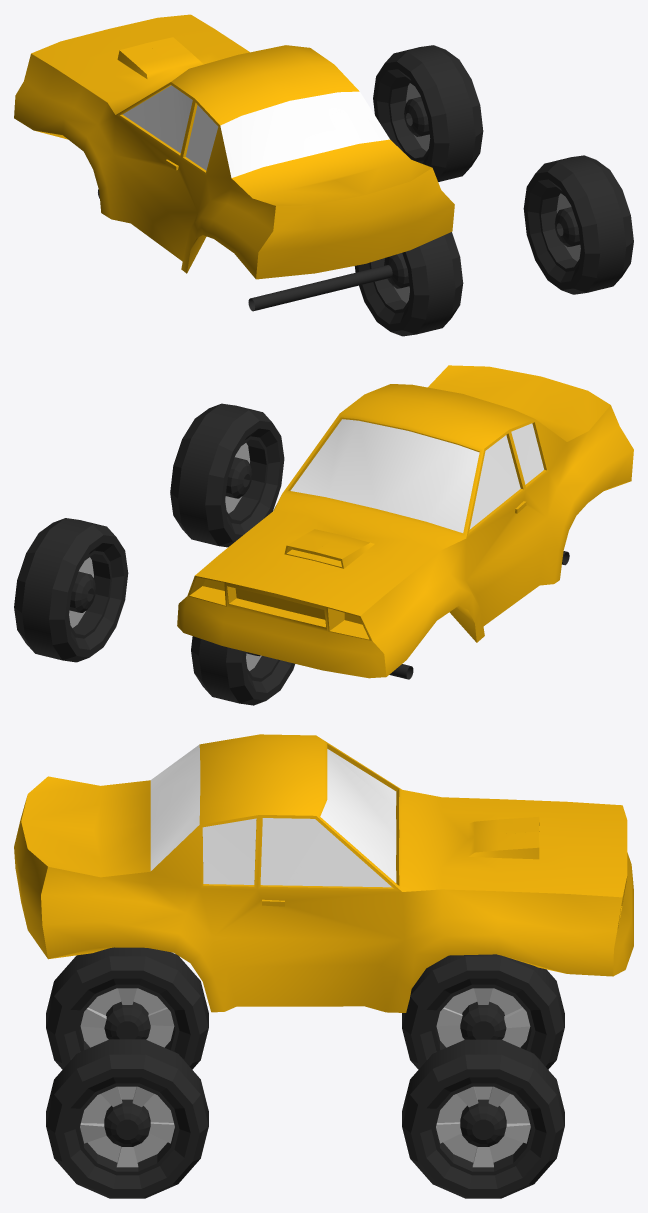
File: 몬스터트럭1 축 개정판.fbx
3 renders of one model, top to bottom at view 1: azimuth 30°, elevation 25°; view 2: azimuth 150°, elevation 25°; view 3: azimuth 270°, elevation 25°, orthographic. The views are drawn at different scales.
Visible parts, largest first — view 1: Plane003, Cylinder015, Cylinder014, 자동차; view 2: Plane003, Cylinder014, Cylinder015, 자동차; view 3: Plane003, 자동차, Cylinder014, Cylinder015.
Part boxes in pixels (x1,y1,x2,y2): Plane003: (14,14,454,279); Cylinder015: (523,155,633,294); Cylinder014: (373,45,483,181); 자동차: (98,189,463,336); Plane003: (177,365,633,678); Cylinder014: (14,518,128,662); Cylinder015: (170,403,284,547); 자동차: (191,551,569,705); Plane003: (14,734,633,1012); 자동차: (46,947,564,1069); Cylinder014: (402,1039,564,1198); Cylinder015: (46,1039,208,1198).
Size of the model in its own units: 433 by 513 by 252.
